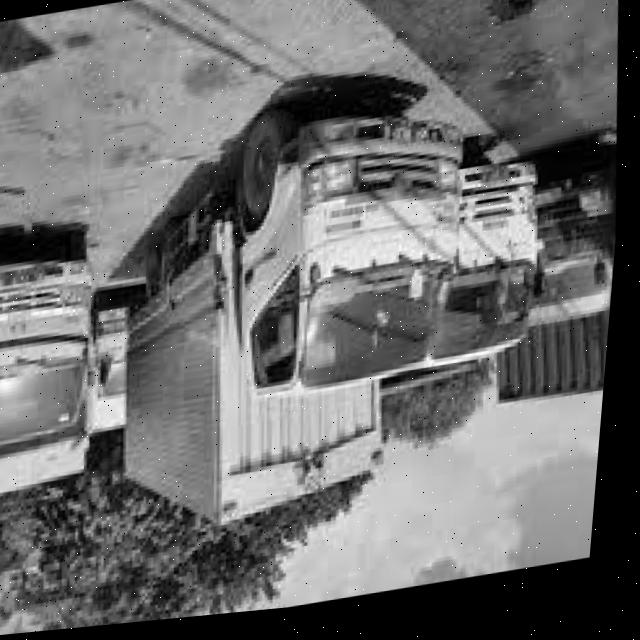truck: (213, 80, 498, 426), (409, 145, 572, 391), (1, 225, 134, 478), (517, 150, 628, 351)
